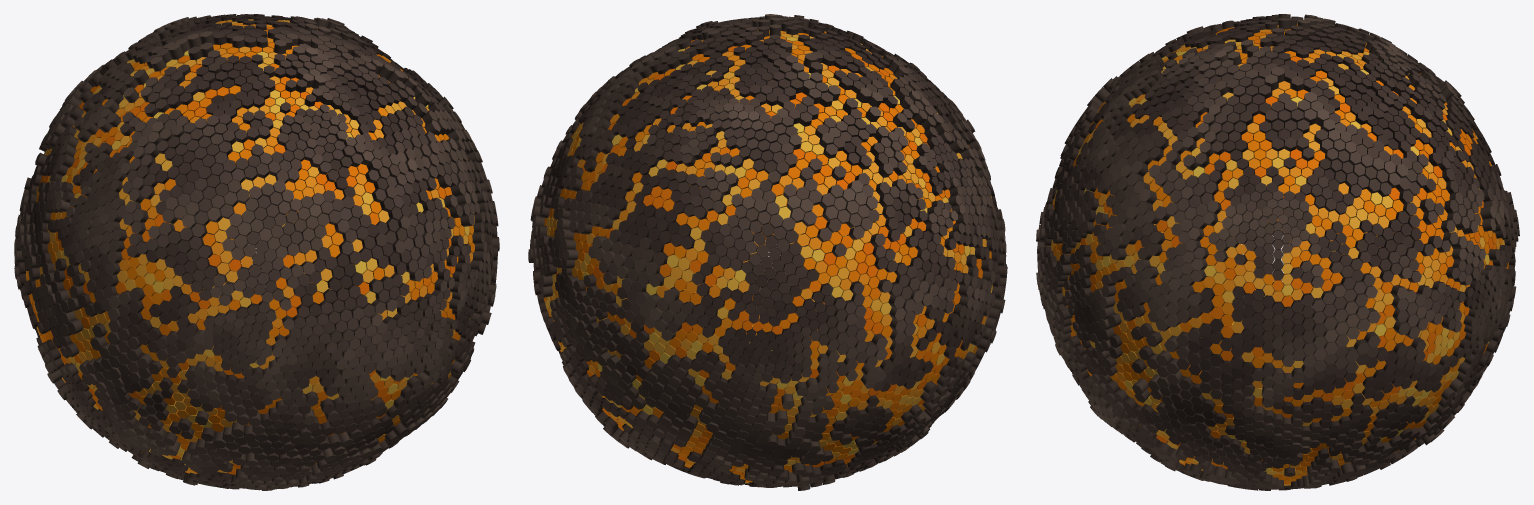
The model's file is lava_1.glb.
The picture shows the model from 3 angles, left to right: view 1: azimuth 30°, elevation 25°; view 2: azimuth 150°, elevation 25°; view 3: azimuth 270°, elevation 25°; orthographic projection.
Parts seen in each view (by area): view 1: lava_1; view 2: lava_1; view 3: lava_1.
Boxes of the visible parts, left/top/right/bottom form: lava_1: left=14, top=14, right=499, bottom=490; lava_1: left=528, top=14, right=1007, bottom=490; lava_1: left=1036, top=14, right=1519, bottom=490.
Size of the model in its own units: 2.09 by 2.06 by 2.09.
